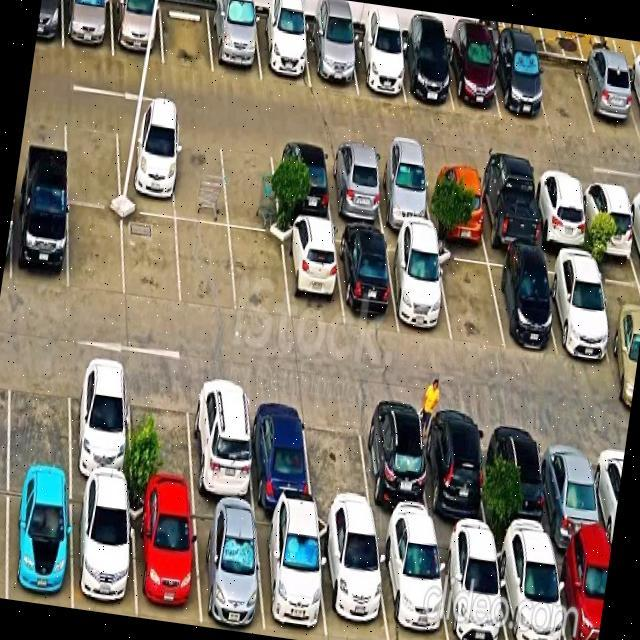Car: (123, 504, 202, 624), (190, 514, 268, 634), (0, 491, 77, 607), (254, 522, 329, 640), (177, 407, 256, 519), (64, 500, 138, 616), (61, 392, 138, 500), (316, 534, 394, 640), (356, 422, 430, 532), (244, 419, 314, 532), (378, 539, 453, 640), (480, 430, 548, 540), (417, 429, 486, 535), (550, 262, 617, 369), (536, 446, 604, 548), (388, 240, 455, 342), (112, 116, 182, 212), (496, 554, 574, 640), (495, 255, 560, 357), (440, 546, 510, 640), (426, 152, 488, 252), (480, 166, 542, 266), (338, 230, 400, 330), (278, 227, 344, 319), (266, 140, 334, 228), (579, 180, 639, 279), (530, 175, 590, 274), (398, 15, 458, 110), (9, 198, 72, 288), (578, 36, 638, 128), (494, 24, 550, 122), (447, 22, 504, 116), (354, 5, 409, 101), (306, 0, 363, 92), (205, 0, 266, 83), (373, 153, 431, 240), (256, 0, 314, 85), (327, 147, 382, 230), (109, 0, 166, 58), (61, 0, 115, 54)
Vacant: (0, 373, 78, 491), (298, 424, 374, 528), (124, 398, 196, 507), (436, 255, 506, 348), (170, 128, 232, 225), (62, 208, 130, 296), (117, 208, 182, 300), (223, 134, 286, 228), (58, 122, 123, 208), (225, 225, 288, 312), (534, 39, 594, 127), (173, 218, 234, 301), (157, 0, 219, 75)
